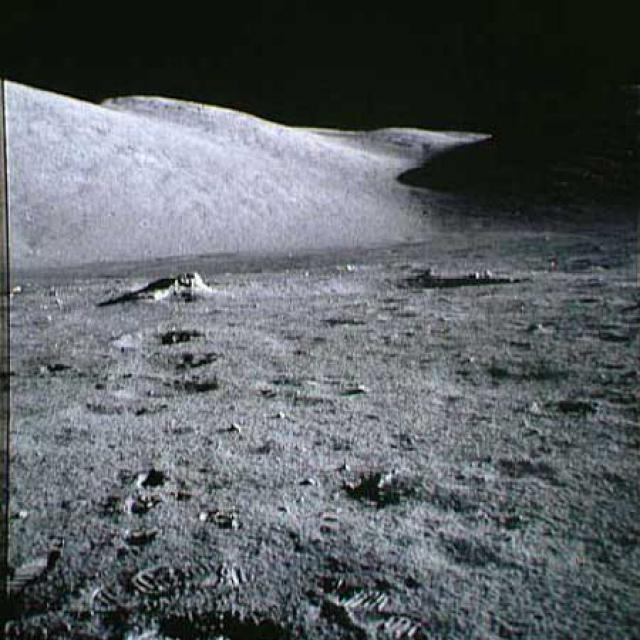crater: (15, 260, 504, 298), (126, 344, 217, 372), (115, 372, 209, 398), (21, 352, 99, 376), (118, 326, 203, 348)
rock: (128, 266, 230, 303)
